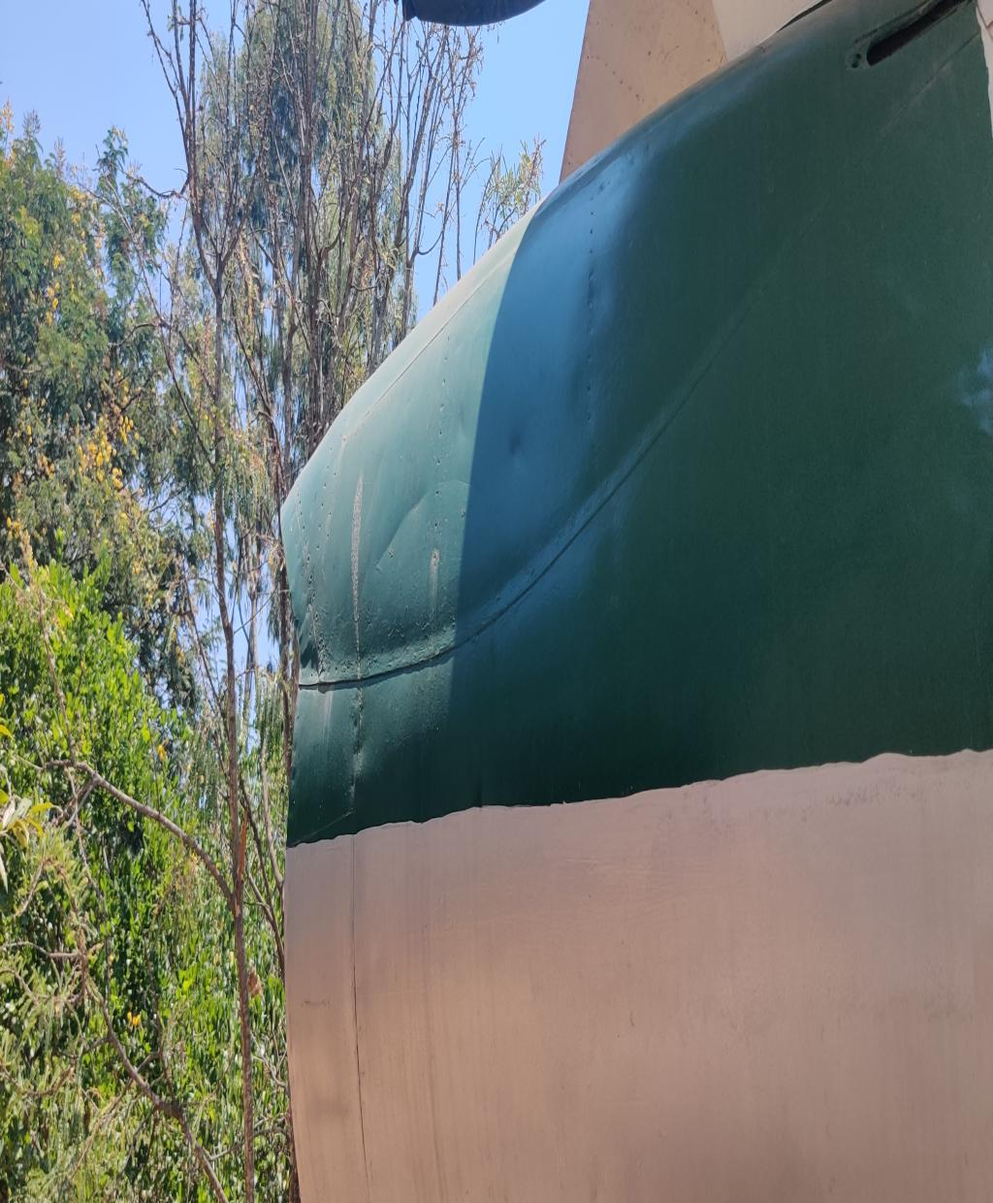dent: (565, 347, 604, 449), (503, 403, 532, 483)
